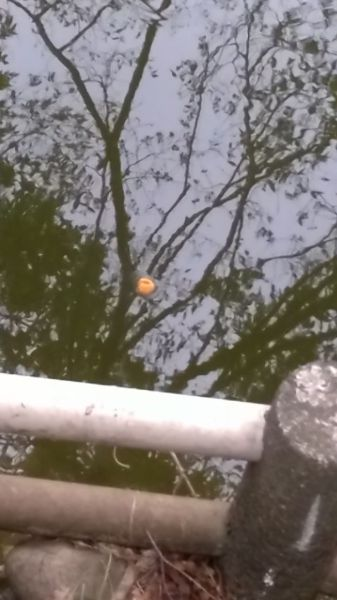eggs: (133, 274, 159, 295)
